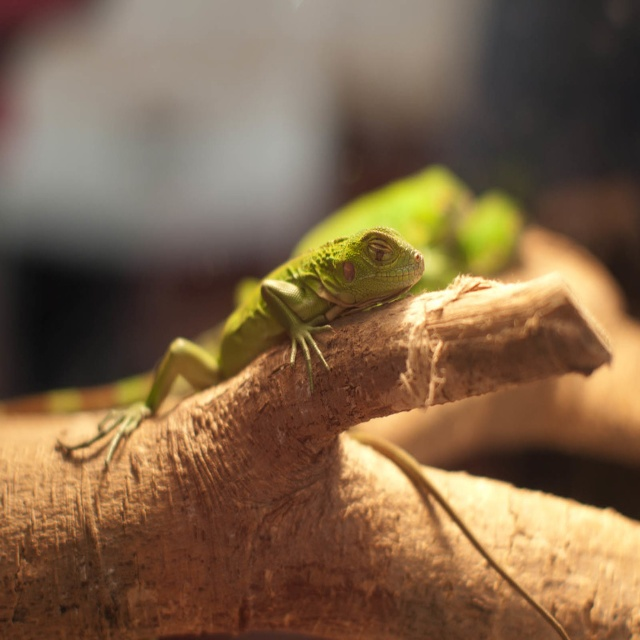Lizard: (164, 205, 431, 427)
